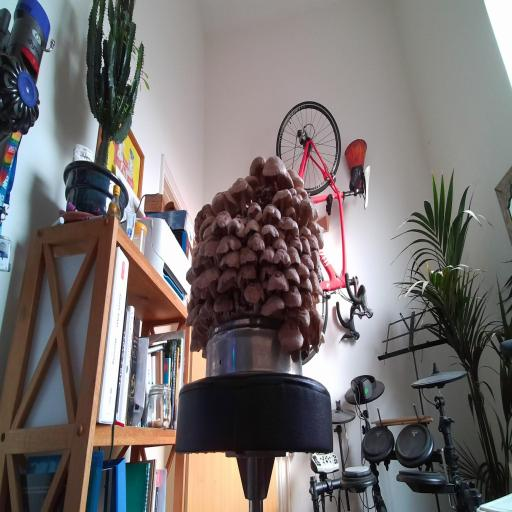Shiitake Mushroom: (224, 169, 262, 216), (236, 272, 273, 315), (185, 197, 218, 243), (204, 203, 239, 246), (265, 180, 300, 217), (275, 319, 306, 356), (229, 258, 264, 290), (194, 260, 222, 299), (304, 213, 332, 251), (210, 264, 244, 294), (304, 305, 325, 352), (281, 163, 310, 194), (211, 186, 239, 218), (257, 292, 289, 318), (193, 208, 219, 240), (257, 216, 282, 249), (212, 231, 245, 255), (253, 257, 282, 283), (208, 291, 237, 316), (181, 299, 204, 330), (195, 229, 220, 257), (241, 197, 267, 223), (290, 258, 316, 284), (284, 231, 310, 256), (267, 268, 290, 296), (274, 167, 296, 195), (240, 167, 264, 192), (279, 263, 305, 286), (295, 249, 321, 272), (261, 154, 288, 176), (194, 301, 216, 327), (286, 306, 312, 327), (298, 196, 316, 226), (285, 242, 303, 270), (282, 284, 302, 308), (250, 155, 266, 184), (226, 215, 246, 238), (273, 246, 292, 270), (191, 253, 216, 271), (292, 182, 313, 203), (219, 249, 241, 269), (308, 268, 322, 298), (182, 294, 202, 315), (263, 203, 282, 225), (204, 239, 220, 265), (280, 202, 301, 221), (247, 231, 265, 253), (182, 264, 199, 287), (242, 217, 263, 235), (299, 231, 313, 258), (188, 281, 206, 300), (300, 287, 314, 311), (310, 246, 323, 271), (198, 223, 216, 241), (240, 247, 258, 264), (259, 246, 275, 263), (271, 235, 289, 250), (279, 216, 294, 234), (191, 328, 206, 346), (289, 193, 303, 212), (253, 210, 266, 230), (192, 315, 209, 330), (301, 336, 310, 360), (300, 277, 313, 292), (298, 224, 312, 237), (204, 298, 214, 316), (308, 234, 319, 250), (275, 227, 289, 239), (189, 341, 204, 352), (288, 184, 298, 198)
